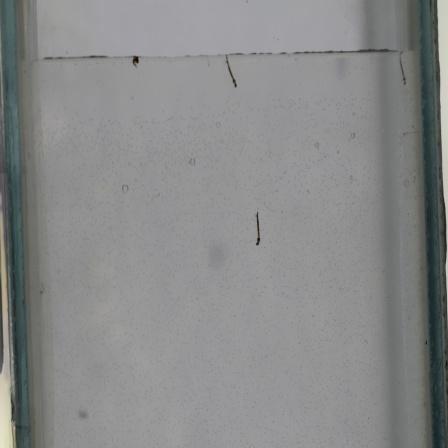Jentik-Nyamuk: (218, 56, 243, 91), (394, 52, 411, 89), (252, 208, 263, 253), (128, 56, 145, 69)
